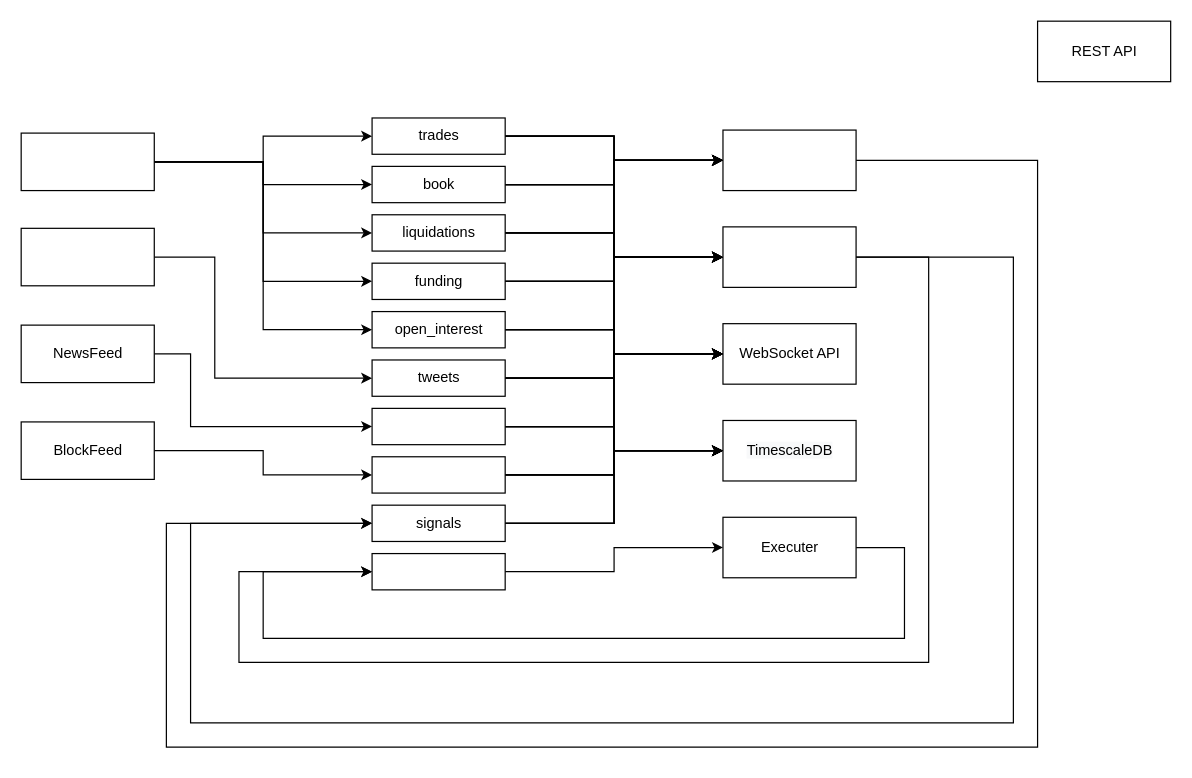
This 1192x778 diagram has some shape labels left out. Each missing label, with the centre of its shape:
"AlphaBit" goes at [789,256].
"articles" goes at [438,426].
"CryptoFeed" goes at [87,161].
"executions" goes at [438,571].
"Extractor" goes at [789,160].
"transactions" goes at [438,474].
"TwitterFeed" goes at [87,256].
